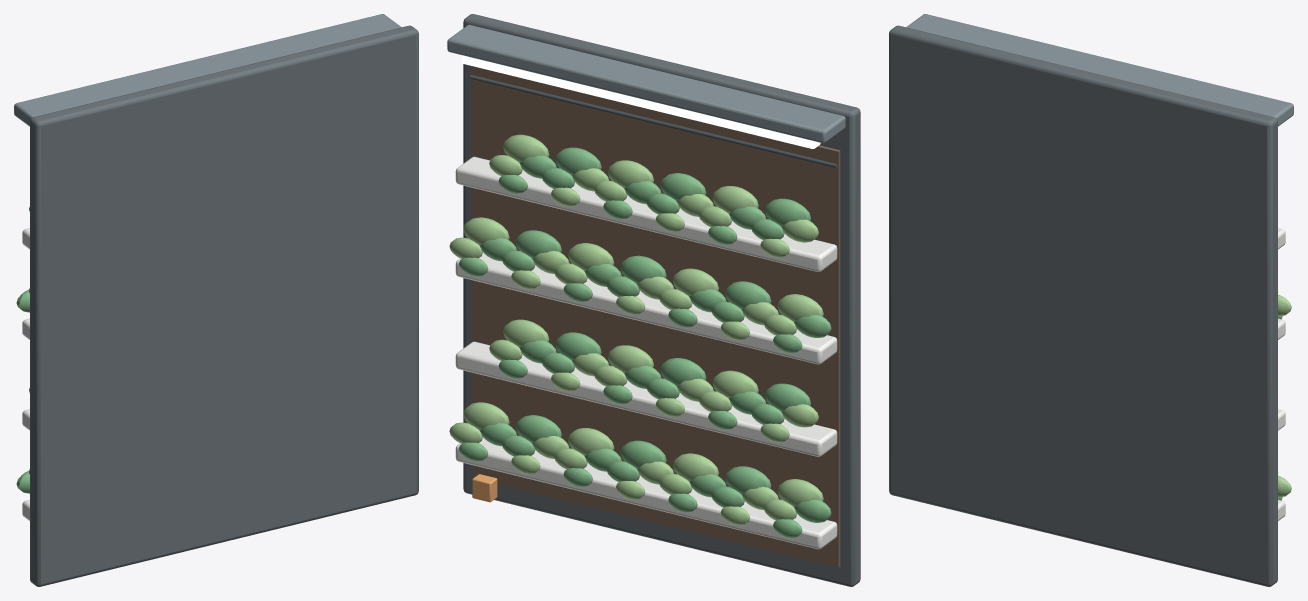
The model's file is plant_wall.glb.
The picture shows the model from 3 angles, left to right: view 1: azimuth 30°, elevation 25°; view 2: azimuth 150°, elevation 25°; view 3: azimuth 330°, elevation 25°; orthographic projection. The views are drawn at different scales.
Parts seen in each view (by area): view 1: frame_graphite, grow_light_housing_dark_alloy; view 2: felt_back_soil, leaves_light_leaf_light, leaves_leaf_green, frame_graphite, grow_light_housing_dark_alloy, pocket_row_1_white_painted, pocket_row_3_white_painted, pocket_row_2_white_painted, pocket_row_0_white_painted, grow_light_lamp_white, drip_line_black_rubber, valve_orange; view 3: frame_graphite, grow_light_housing_dark_alloy.
Part boxes in pixels (x1,y1,x2,y2): frame_graphite: [30, 25, 418, 586]; grow_light_housing_dark_alloy: [14, 14, 401, 126]; felt_back_soil: [472, 66, 840, 567]; leaves_light_leaf_light: [449, 134, 823, 525]; leaves_leaf_green: [459, 147, 831, 537]; frame_graphite: [463, 14, 860, 586]; grow_light_housing_dark_alloy: [447, 24, 845, 143]; pocket_row_1_white_painted: [455, 341, 837, 456]; pocket_row_3_white_painted: [455, 156, 837, 271]; pocket_row_2_white_painted: [455, 252, 837, 364]; pocket_row_0_white_painted: [455, 437, 837, 549]; grow_light_lamp_white: [461, 55, 820, 148]; drip_line_black_rubber: [469, 75, 837, 168]; valve_orange: [472, 474, 497, 502]; frame_graphite: [889, 25, 1277, 586]; grow_light_housing_dark_alloy: [906, 14, 1293, 126].
Size of the model in its own units: 1.24 by 1.44 by 0.1852.
